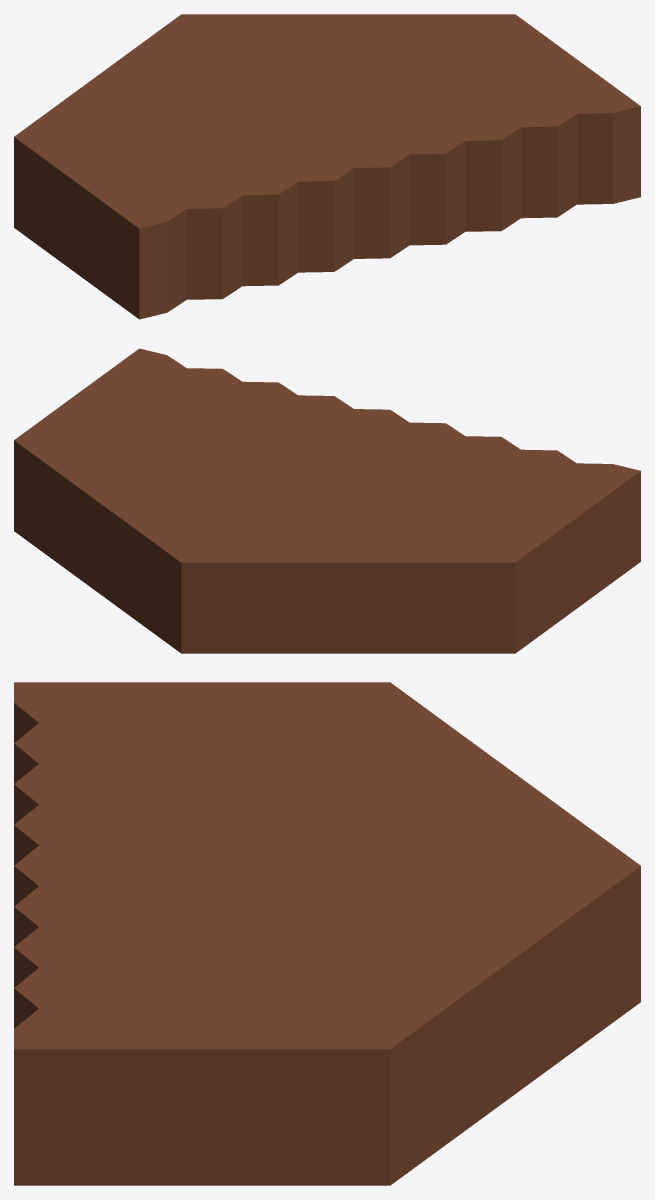
Rendered from _wooden_wall.glb.
3 renders of one model, top to bottom at view 1: azimuth 30°, elevation 25°; view 2: azimuth 150°, elevation 25°; view 3: azimuth 270°, elevation 25°, orthographic. The views are drawn at different scales.
Visible parts, largest first — view 1: WoodenWall2-col; view 2: WoodenWall2-col; view 3: WoodenWall2-col.
Boxes of the visible parts, x1,y1,x2,y2 form: WoodenWall2-col: (14,14,640,319); WoodenWall2-col: (14,348,640,653); WoodenWall2-col: (14,682,640,1185).
Size of the model in its own units: 1.73 by 0.3 by 1.25.
1 material, 1 textured.
